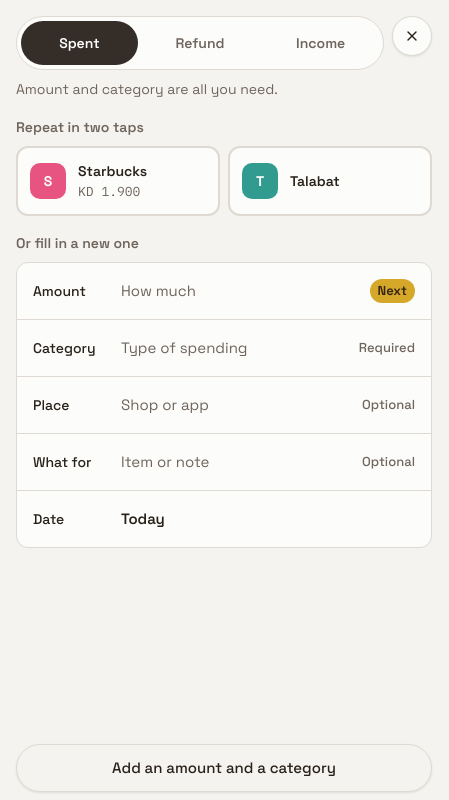
Scenario: /log a tile tap is her choice of place (MOB-R74 G) › she picked Talabat, then taps Starbucks: the place becomes Starbucks and her category stays
This screenshot has width=449, height=800.
Expected: the button "S Starbucks KD 1.900" is shown, [16, 146, 220, 216]
Click the button "Category Type of spending Required". click: (224, 348)
box: [17, 320, 431, 376]
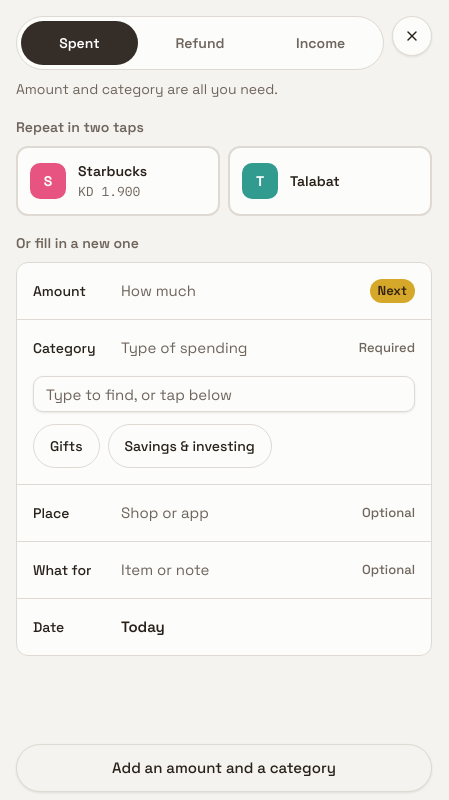
Click the button "Gifts". click: (66, 446)
box: [33, 424, 100, 468]
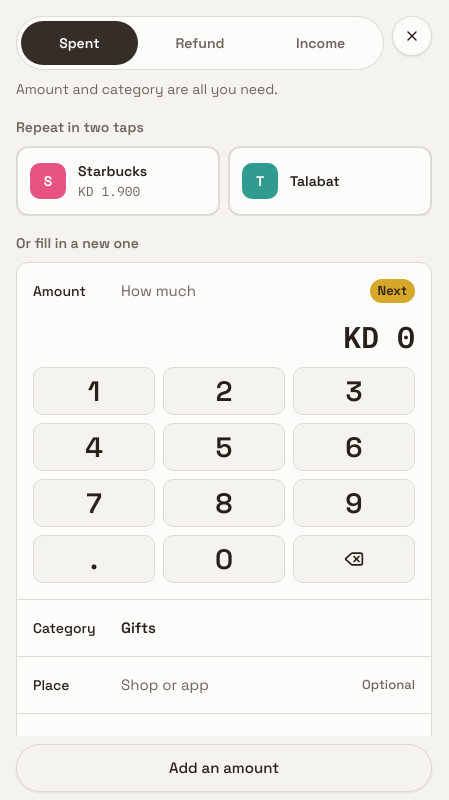
Click the button "Place Shop or app Optional". click: (51, 685)
box: [17, 657, 431, 713]
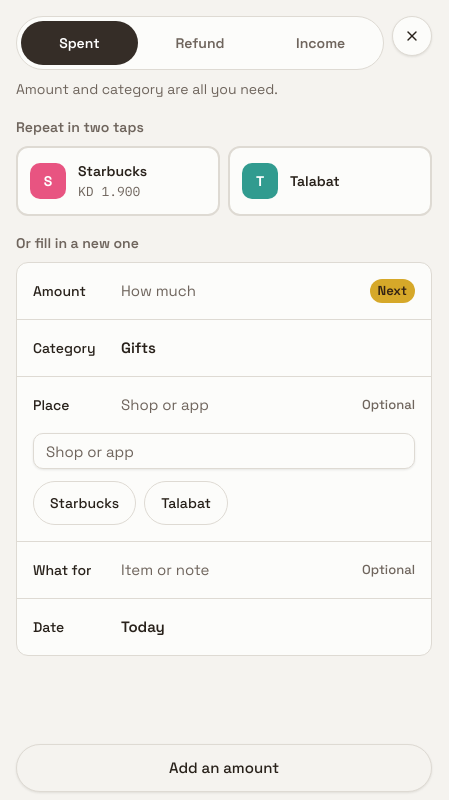
Click the button "Talabat". click: (186, 503)
box: [144, 481, 228, 525]
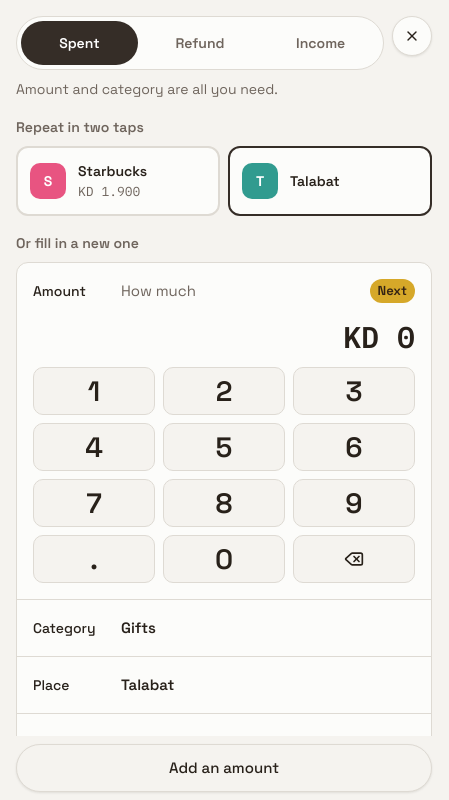
Now the button "Place Talabat" is shown, box [17, 657, 431, 713]
Click the button "S Starbucks KD 1.900". click: (118, 181)
box: [16, 146, 220, 216]
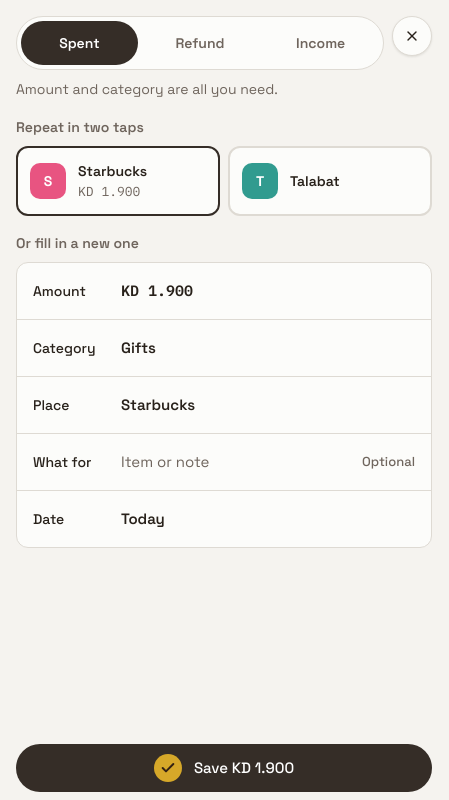
Now the button "Category Gifts" is shown, box [17, 320, 431, 376]
Now the button "Place Starbucks" is shown, box [17, 377, 431, 433]
Now the button "Amount KD 1.900" is shown, box [17, 263, 431, 319]
